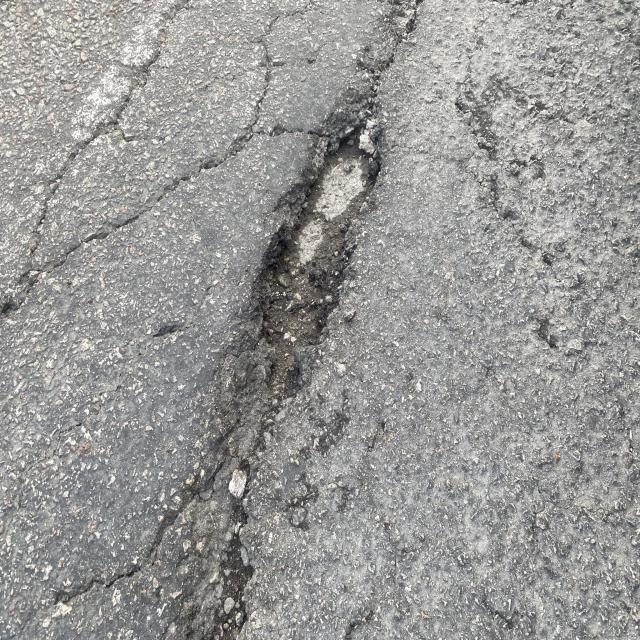pothole: (234, 107, 399, 441)
